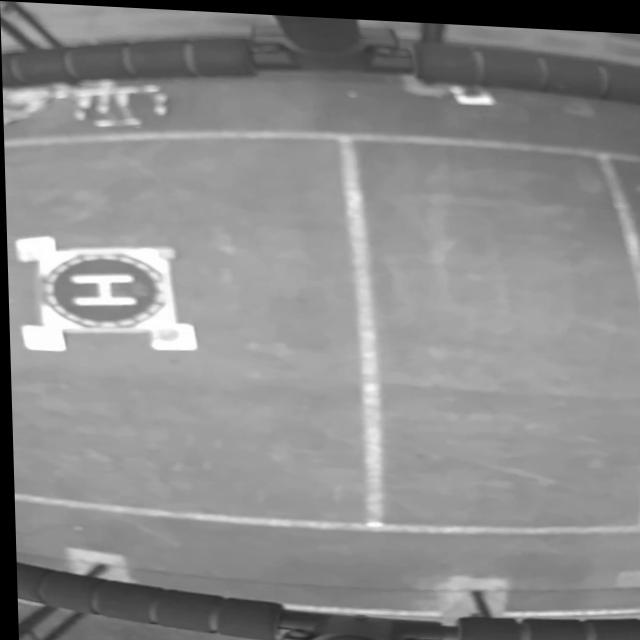Helipad: (68, 272, 138, 304)
